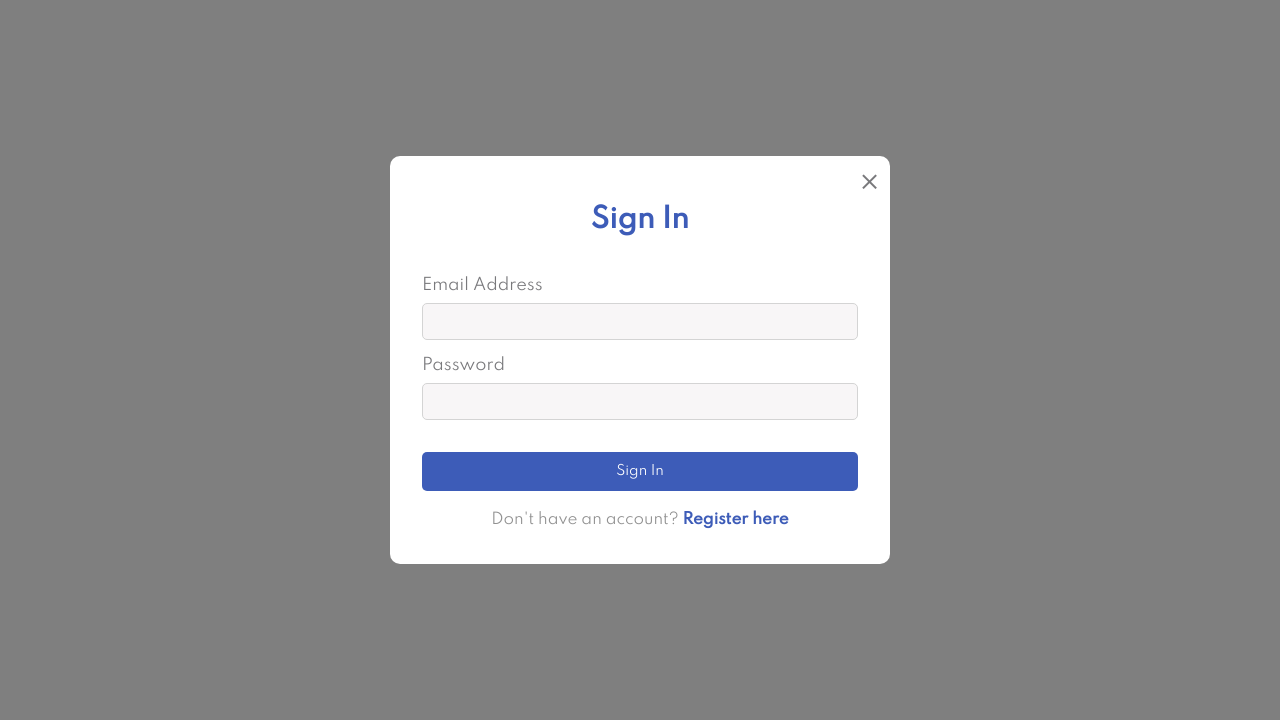
Scenario: History and Booking Flow Integration Tests › should handle successful login and show bookings
Type "test@example.com" into the field with test id "email-input" at (640, 322), box [422, 303, 858, 340]
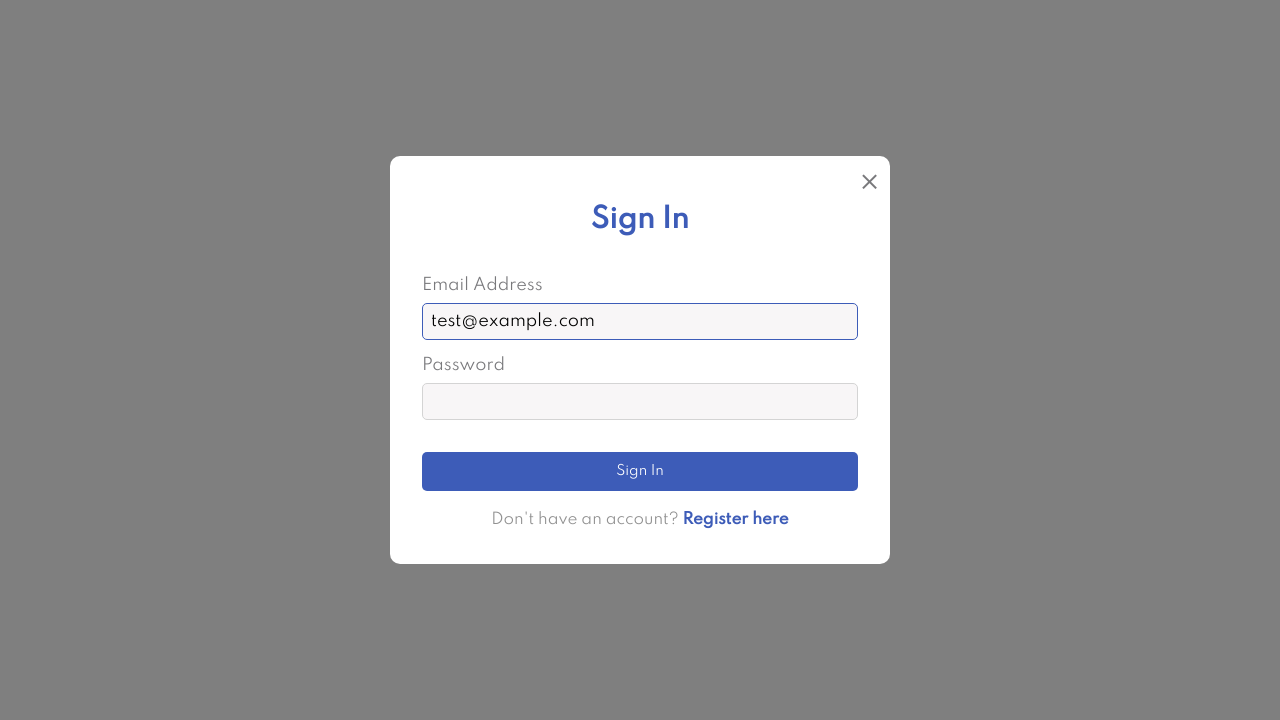
Type "password123" into the password field with test id "password-input" at (640, 402), box [422, 383, 858, 420]
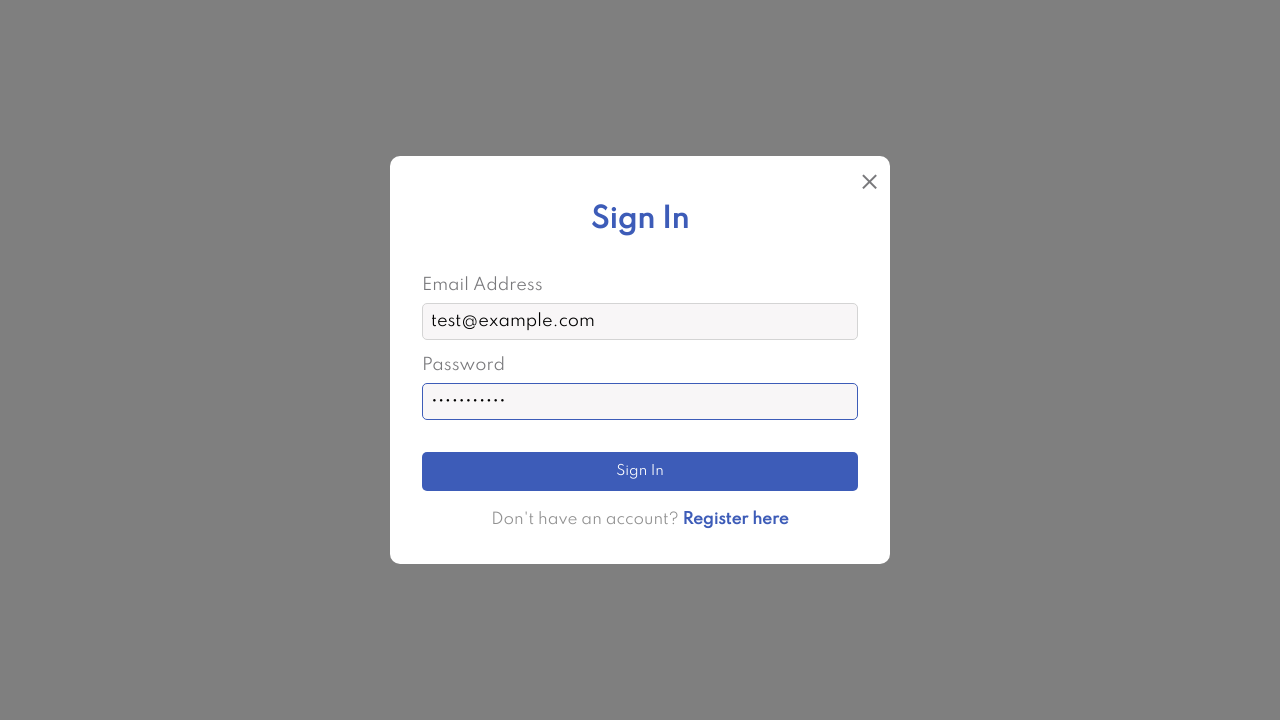
Note: Submit form
Click the button with test id "signin-button" at (640, 472), box [422, 452, 858, 491]
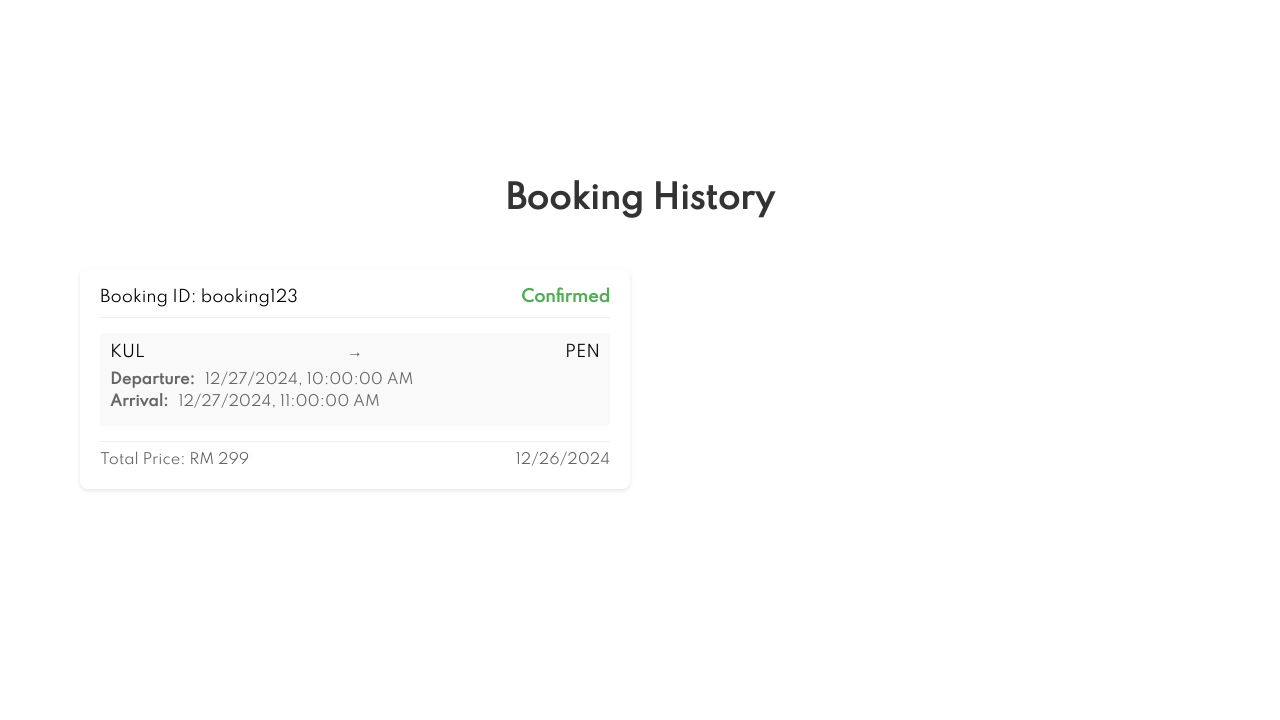
Result: the text "KUL" is shown at [110, 343, 145, 362]
Result: the text "PEN" is shown at [565, 343, 600, 362]
Result: the text "Total Price: RM 299" is shown at [100, 452, 249, 469]
